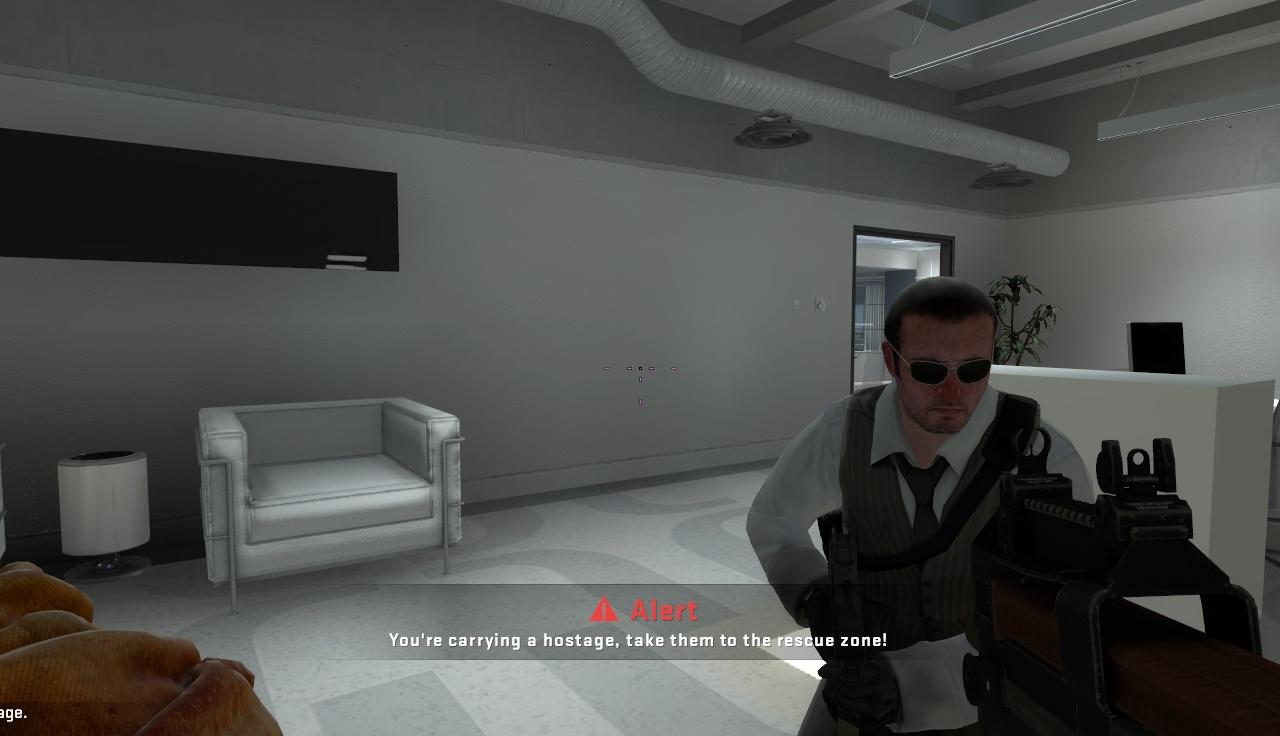rifle: (973, 427, 1280, 736)
tt: (737, 241, 971, 733)
tthead: (879, 271, 995, 429)
